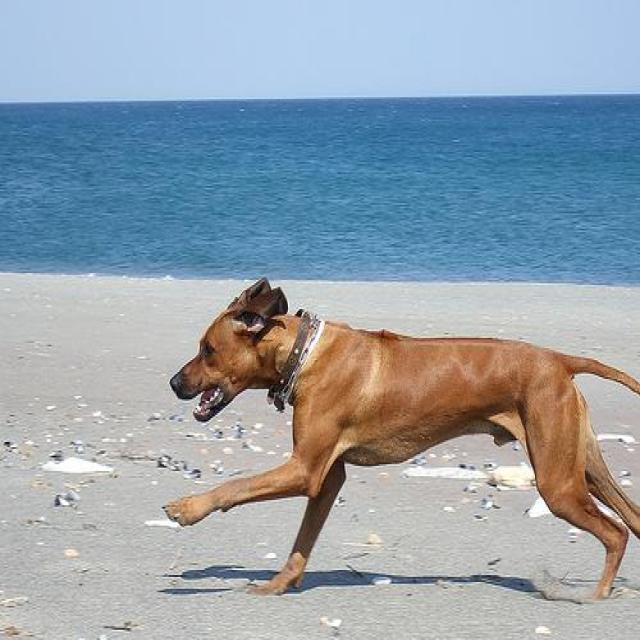rhodesian_ridgeback: (162, 276, 638, 608)
